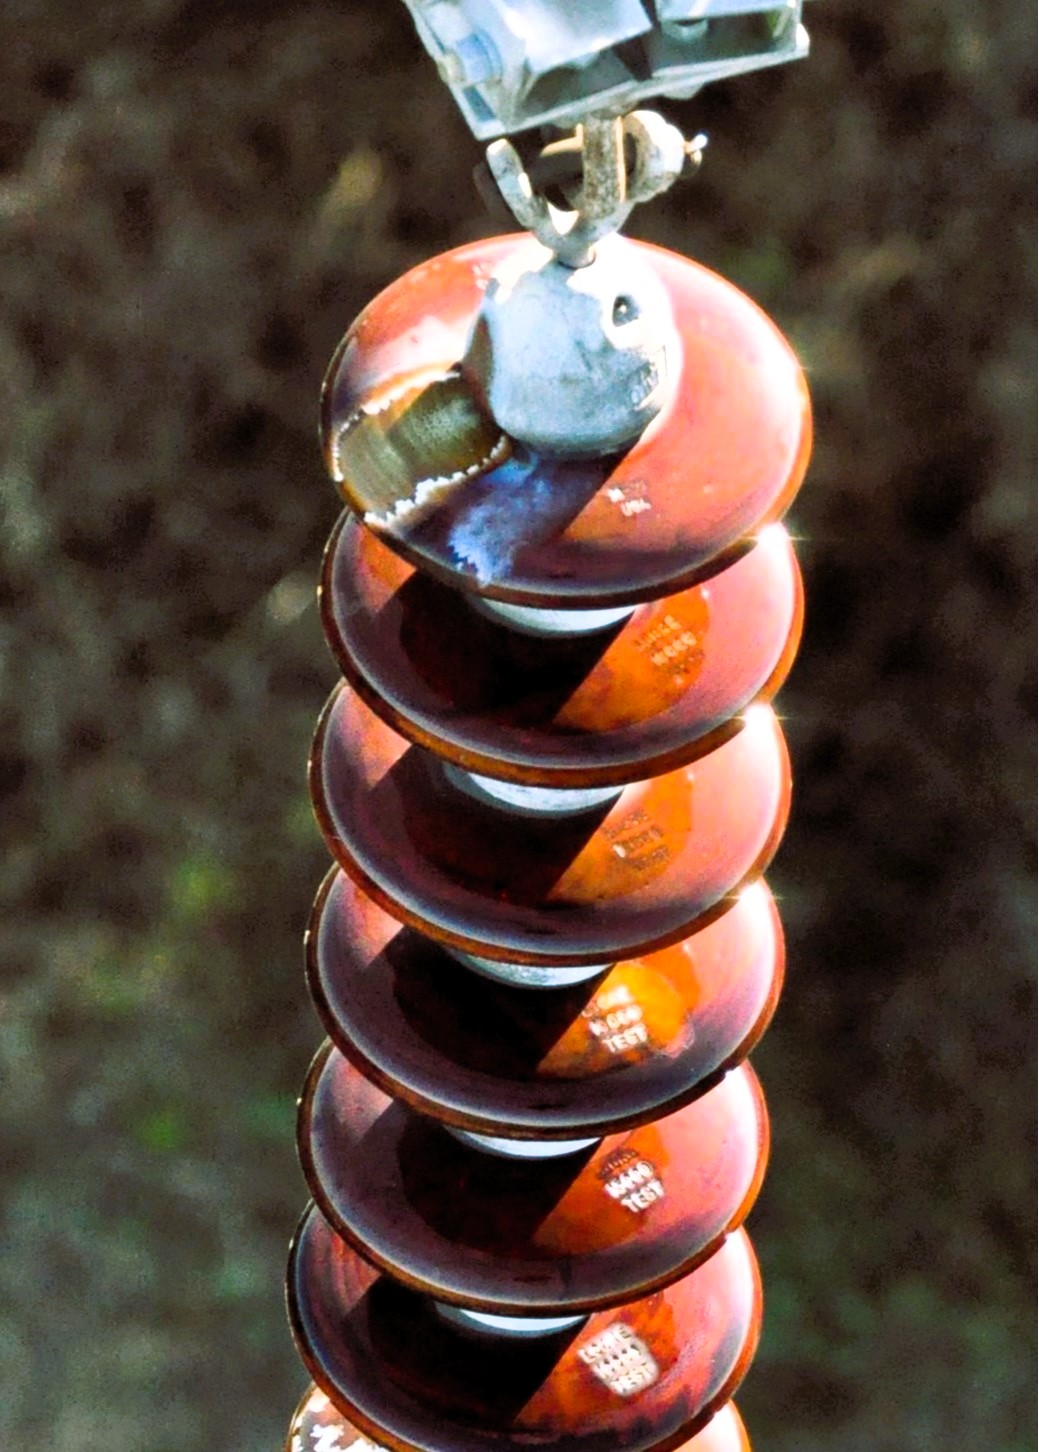Insulator flashover: (298, 215, 828, 608)
